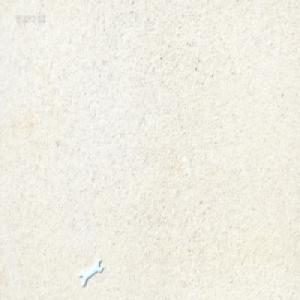Wrench: (79, 258, 104, 287)
